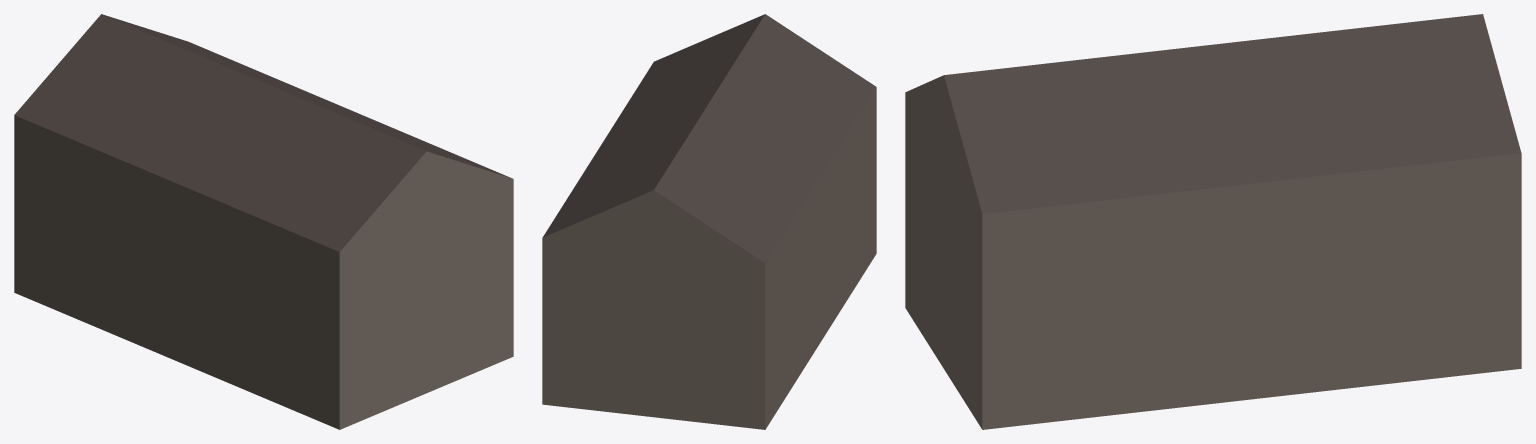
3 views of the same model, side by side, from view 1: azimuth 30°, elevation 25°; view 2: azimuth 150°, elevation 25°; view 3: azimuth 270°, elevation 25° (orthographic). The views are drawn at different scales.
Visible parts, largest first — view 1: HP-w372180428; view 2: HP-w372180428; view 3: HP-w372180428.
Part boxes in pixels (<box>): HP-w372180428: <box>14,14,513,429</box>; HP-w372180428: <box>542,14,876,429</box>; HP-w372180428: <box>905,14,1521,429</box>.
Size of the model in its own units: 10.93 by 8.17 by 15.53.
